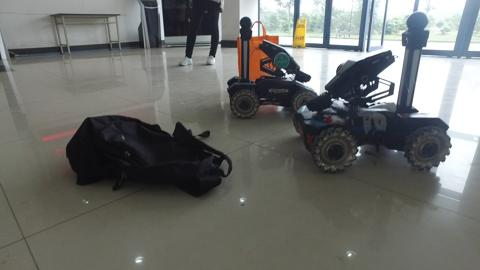bag: (68, 110, 231, 197)
chariot: (299, 12, 451, 176), (228, 15, 313, 115)
